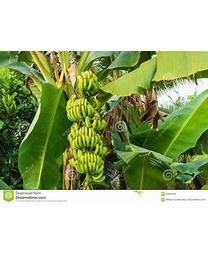banana: (65, 69, 109, 182)
